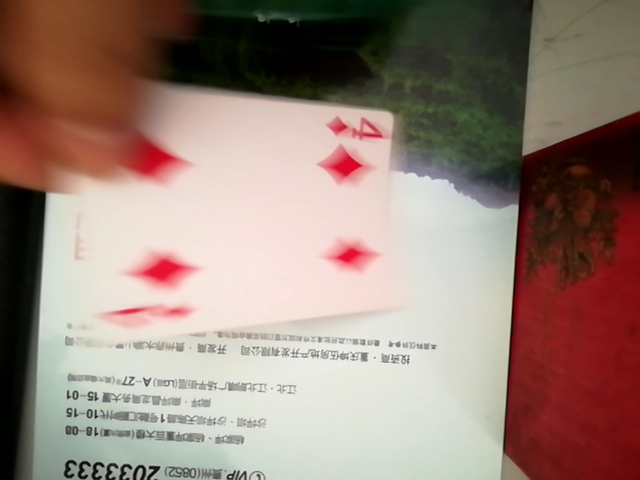fk 4: (70, 90, 415, 339)
